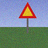sign: (19, 2, 37, 33)
